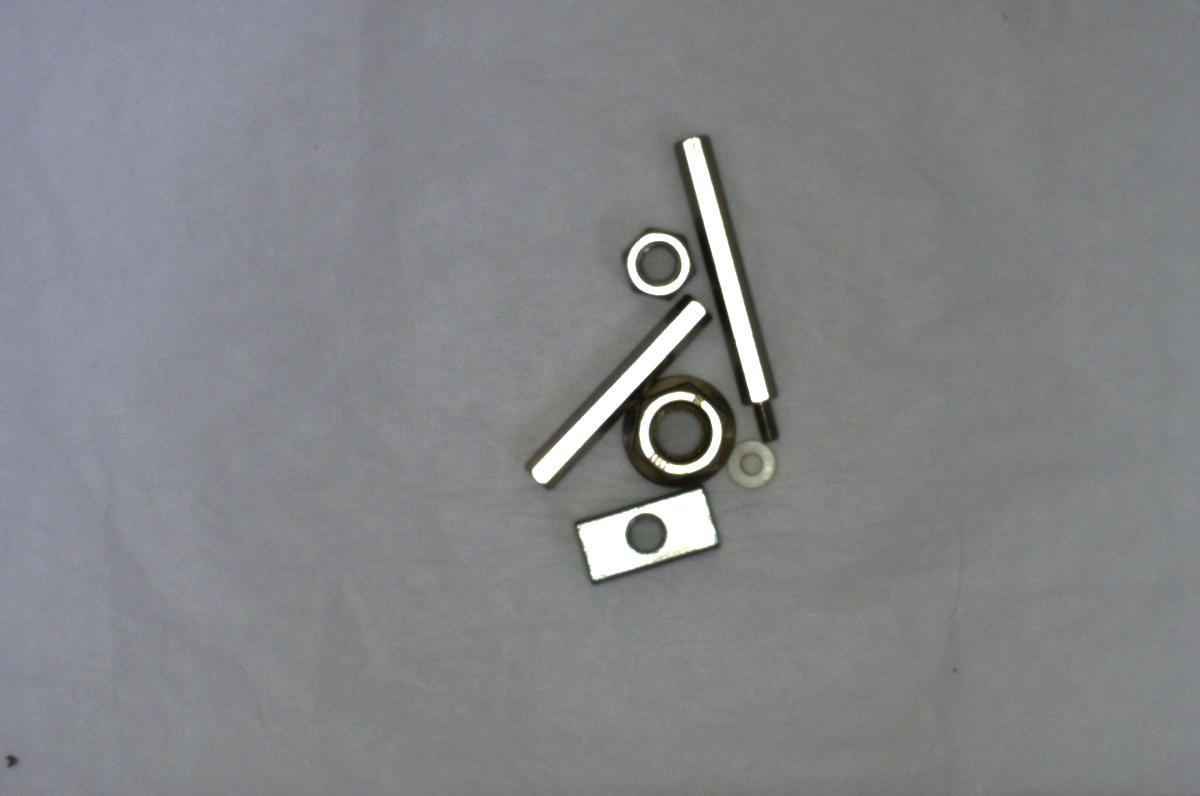Flange nut: (615, 383, 739, 493)
Hexagon nut: (617, 219, 695, 303)
Hexagonal steel column: (666, 118, 792, 442)
Plastic cushion pillar: (722, 436, 780, 495)
Rectangular nut: (575, 481, 730, 585)
Spring washer: (487, 282, 708, 492)
